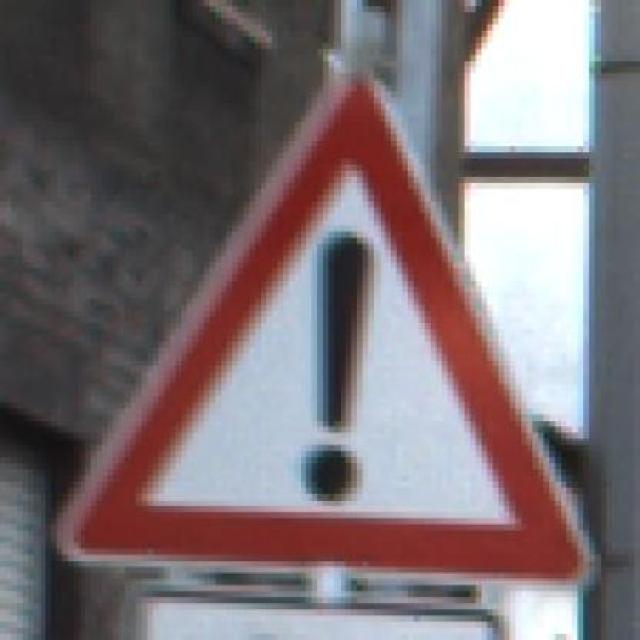Attention Please-: (56, 48, 612, 598)
